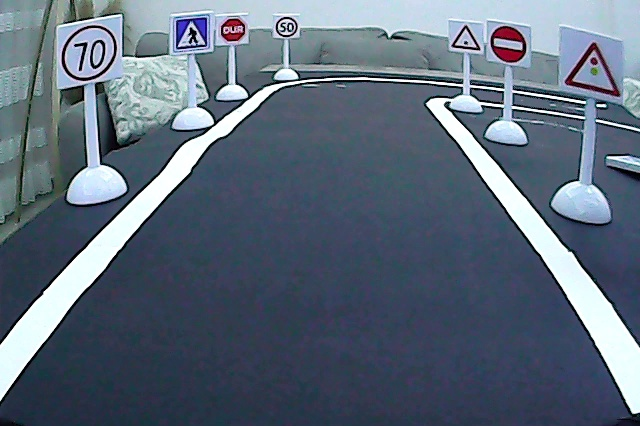do not enter: (489, 22, 528, 65)
green light: (450, 23, 483, 53)
pedestrian crossing: (174, 15, 210, 53)
red light: (563, 36, 623, 101)
speed limit 50: (274, 15, 301, 40)
speed limit 70: (60, 23, 121, 86)
stop sign: (218, 15, 248, 45)
